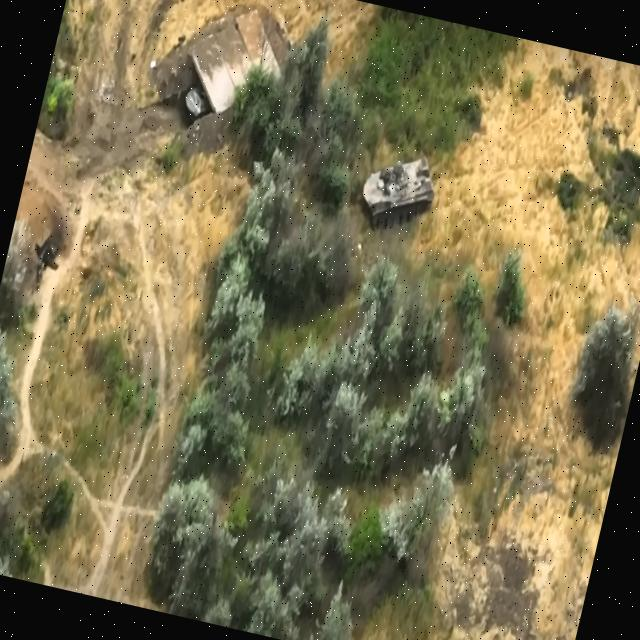AIFV: (354, 143, 445, 242), (180, 83, 217, 130)
